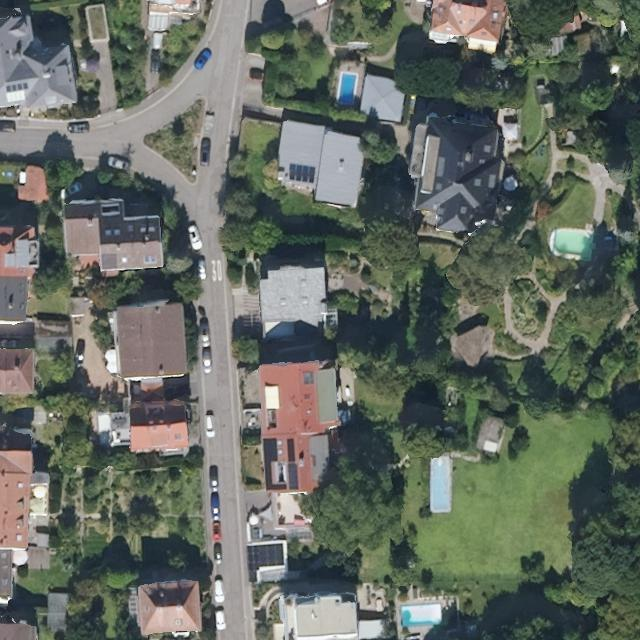PV: (243, 541, 286, 586), (261, 434, 289, 494), (282, 160, 320, 189), (285, 436, 302, 492)
